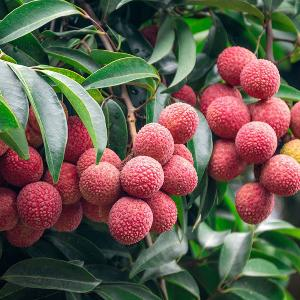litchi: (209, 50, 298, 217), (82, 117, 195, 243), (0, 92, 81, 241)
stem: (95, 20, 140, 119), (262, 1, 278, 62)
